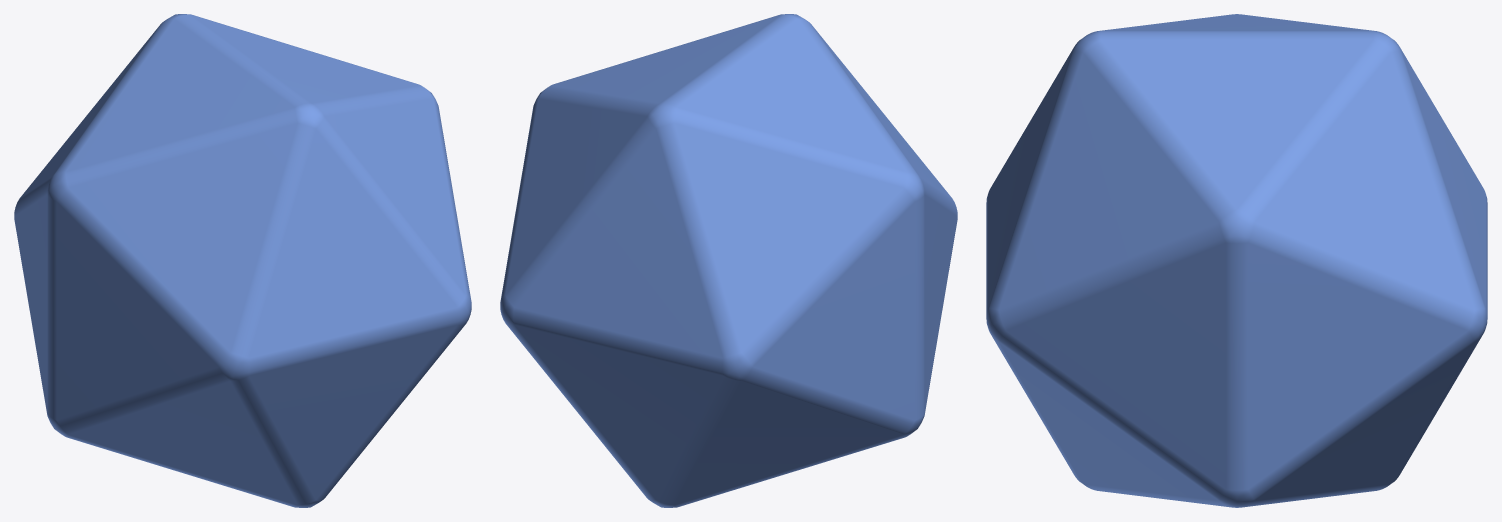
File: icosahedron.glb
3 renders of one model, left to right at view 1: azimuth 30°, elevation 25°; view 2: azimuth 150°, elevation 25°; view 3: azimuth 270°, elevation 25°, orthographic. The views are drawn at different scales.
Parts seen in each view (by area): view 1: icosahedron; view 2: icosahedron; view 3: icosahedron.
Boxes of the visible parts, x1=… form: icosahedron: x1=14, y1=14, x2=471, y2=507; icosahedron: x1=500, y1=14, x2=957, y2=507; icosahedron: x1=986, y1=14, x2=1487, y2=507.
Size of the model in its own units: 3.2 by 3.2 by 3.2.
